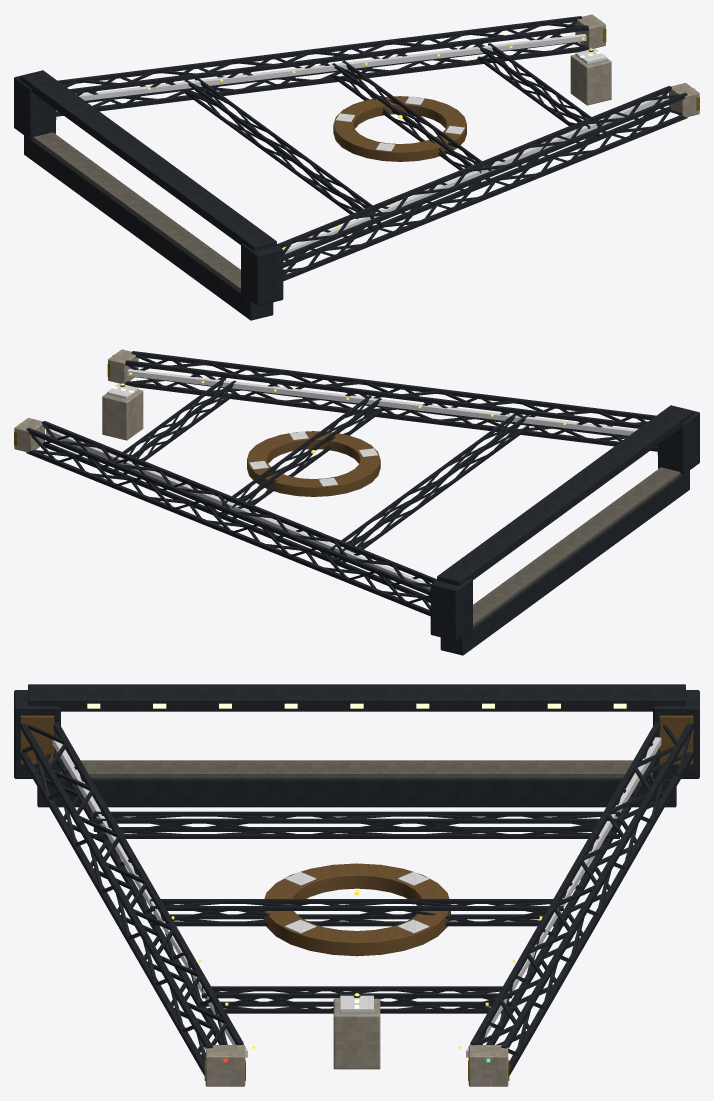
The model's file is place_breakaway_fork.glb.
3 views of the same model, one above another, from view 1: azimuth 30°, elevation 25°; view 2: azimuth 150°, elevation 25°; view 3: azimuth 270°, elevation 25° (orthographic). The views are drawn at different scales.
Visible parts, largest first — view 1: LOD0_Armor, LOD1_Armor, LOD0_Mechanical, LOD0_MechanicalDark, LOD1_Mechanical, LOD0_Hull_aged, LOD0_Mechanical_copper, LOD0_Hull, LOD1_MechanicalDark; view 2: LOD0_Armor, LOD1_Armor, LOD0_Mechanical, LOD0_MechanicalDark, LOD1_Mechanical, LOD0_Hull_aged, LOD0_Mechanical_copper, LOD0_Hull, LOD1_MechanicalDark; view 3: LOD0_Armor, LOD0_Mechanical, LOD1_Armor, LOD1_Mechanical, LOD0_Mechanical_copper, LOD0_Hull_aged, LOD0_Hull, LOD0_MechanicalDark, LOD1_MechanicalDark, LOD0_Lights_Warm.
Boxes of the visible parts, left/top/right/bottom form: LOD0_Armor: left=14, top=16, right=687, bottom=320; LOD1_Armor: left=14, top=18, right=687, bottom=320; LOD0_Mechanical: left=184, top=43, right=600, bottom=229; LOD0_MechanicalDark: left=79, top=34, right=667, bottom=253; LOD1_Mechanical: left=184, top=43, right=600, bottom=229; LOD0_Hull_aged: left=33, top=132, right=240, bottom=291; LOD0_Mechanical_copper: left=56, top=96, right=466, bottom=161; LOD0_Hull: left=570, top=14, right=699, bottom=117; LOD1_MechanicalDark: left=79, top=34, right=667, bottom=252; LOD0_Armor: left=26, top=351, right=699, bottom=655; LOD1_Armor: left=26, top=351, right=699, bottom=634; LOD0_Mechanical: left=113, top=378, right=529, bottom=564; LOD0_MechanicalDark: left=46, top=369, right=636, bottom=589; LOD1_Mechanical: left=114, top=379, right=527, bottom=564; LOD0_Hull_aged: left=473, top=467, right=680, bottom=626; LOD0_Mechanical_copper: left=247, top=431, right=657, bottom=496; LOD0_Hull: left=14, top=349, right=143, bottom=452; LOD1_MechanicalDark: left=46, top=371, right=632, bottom=588; LOD0_Armor: left=14, top=684, right=699, bottom=1075; LOD0_Mechanical: left=93, top=811, right=620, bottom=1013; LOD1_Armor: left=15, top=690, right=699, bottom=1075; LOD1_Mechanical: left=94, top=811, right=619, bottom=1013; LOD0_Mechanical_copper: left=20, top=715, right=693, bottom=955; LOD0_Hull_aged: left=61, top=760, right=652, bottom=777; LOD0_Hull: left=205, top=998, right=508, bottom=1086; LOD0_MechanicalDark: left=52, top=737, right=661, bottom=1057; LOD1_MechanicalDark: left=53, top=737, right=661, bottom=1057; LOD0_Lights_Warm: left=87, top=703, right=626, bottom=1008.
Size of what is drawn, in the model's own units: 88.6 by 13.02 by 73.
Materials: 11 (7 with a texture image).
